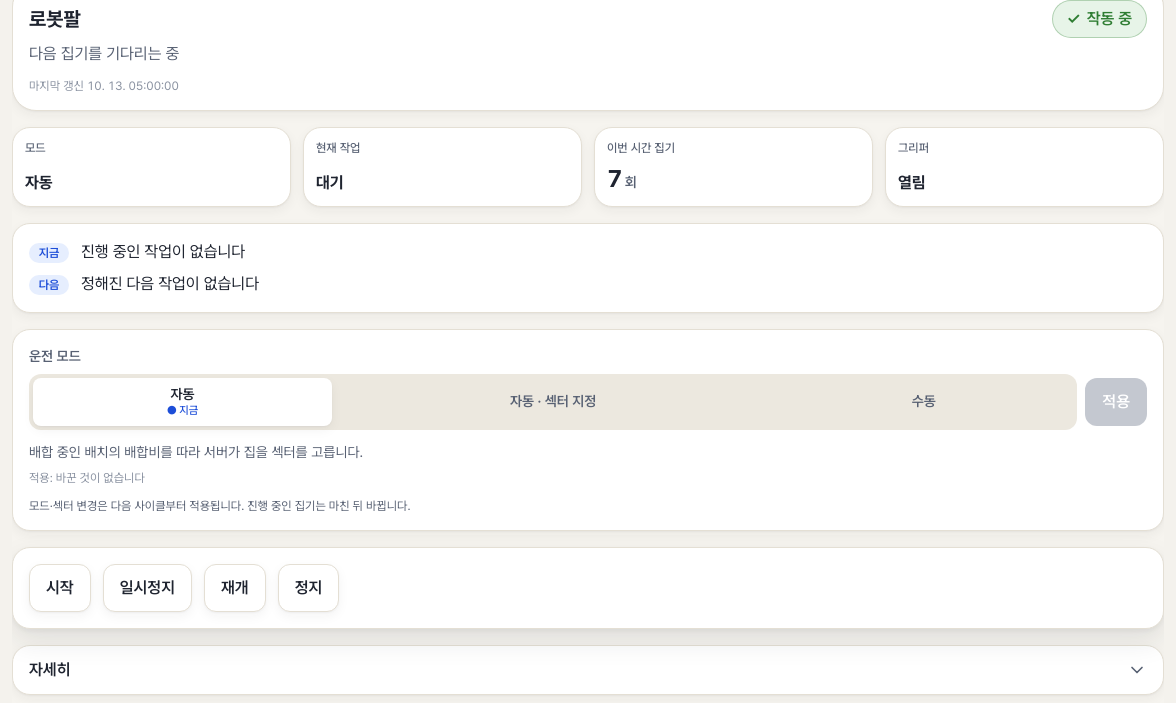
Test case: RobotPage › 진단: 관절 값을 받기 전에는 기다리는 중이라고 보여 준다
The width and height of the screenshot is (1176, 703).
What coordinates should you click on to do the following:
click the button "자세히"
I would click on:
 (50, 670)
Its box is [13,646,1163,694].
(page scrolled)
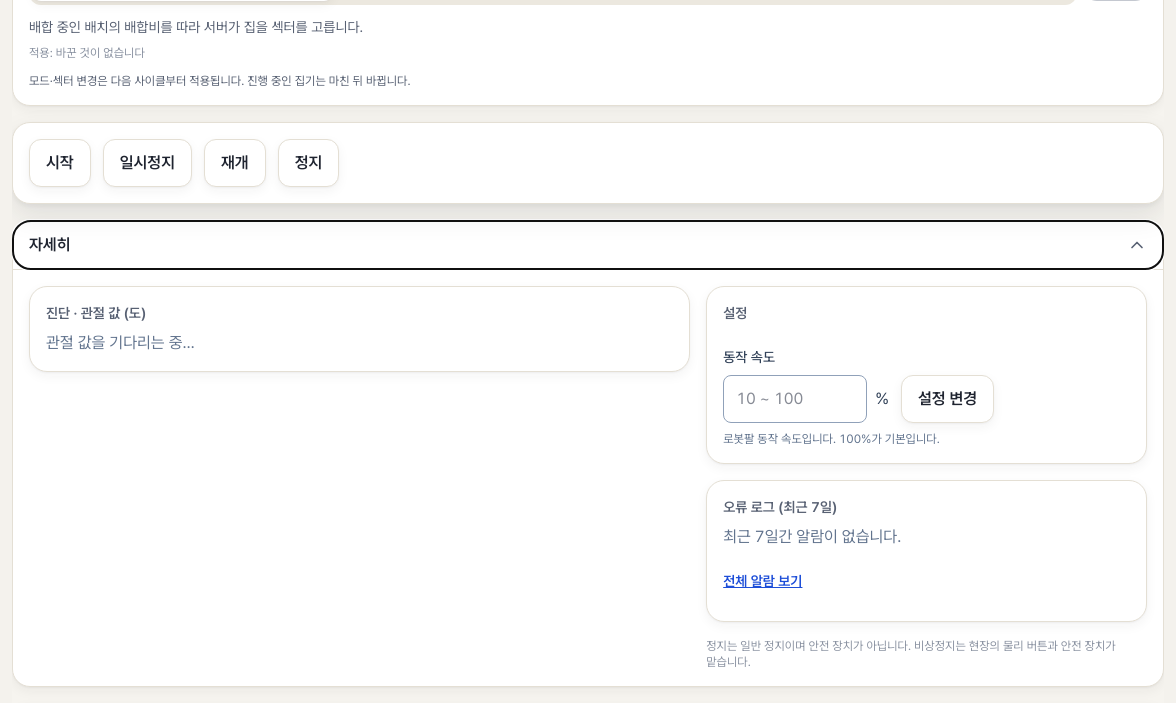
Result: the message shows "관절 값을 기다리는 중" at [46,333,195,352]
